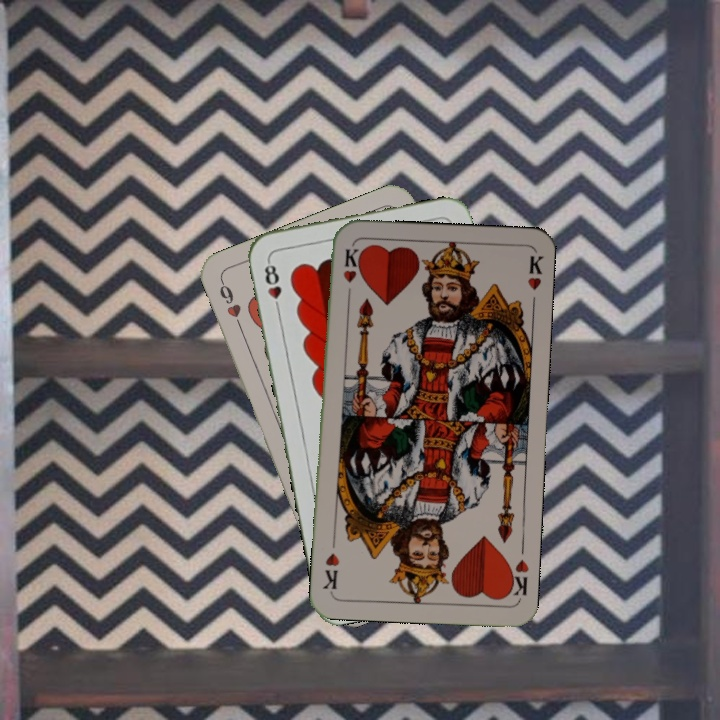H8: (260, 256, 284, 315)
H9: (215, 276, 246, 333)
HK: (339, 244, 360, 303), (503, 556, 531, 599)
